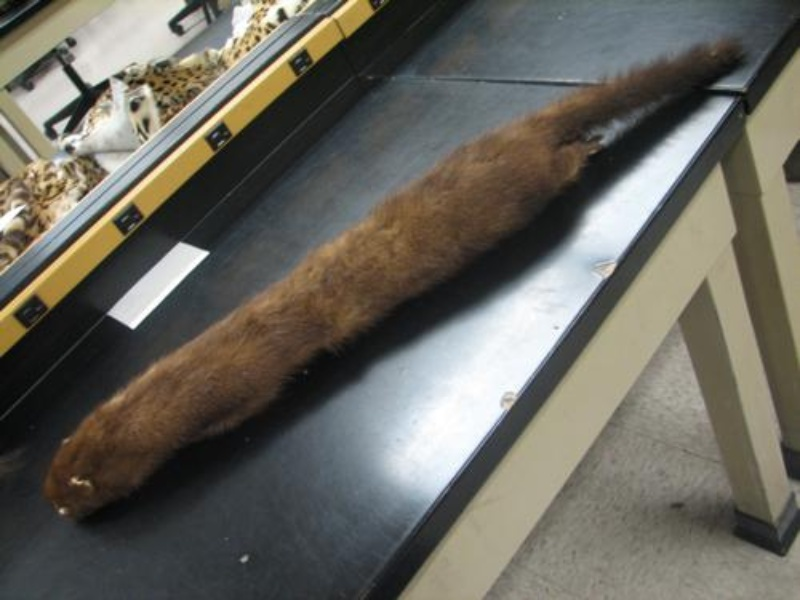minkish: (39, 35, 747, 521)
